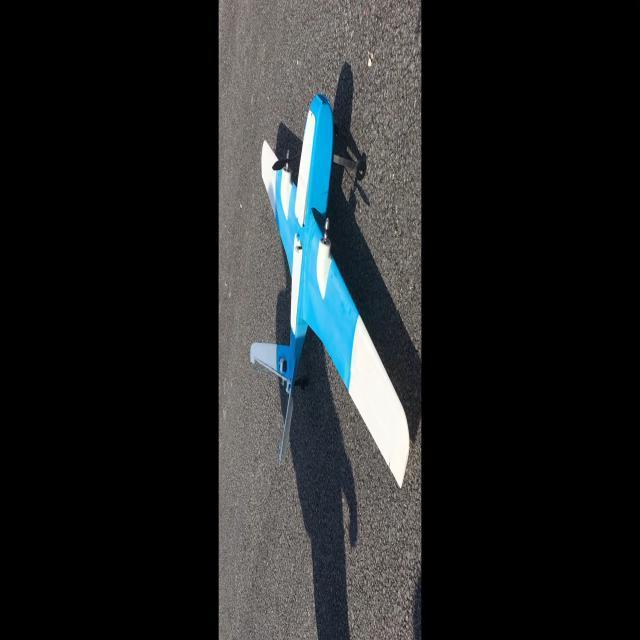UAV: (258, 91, 379, 472)
